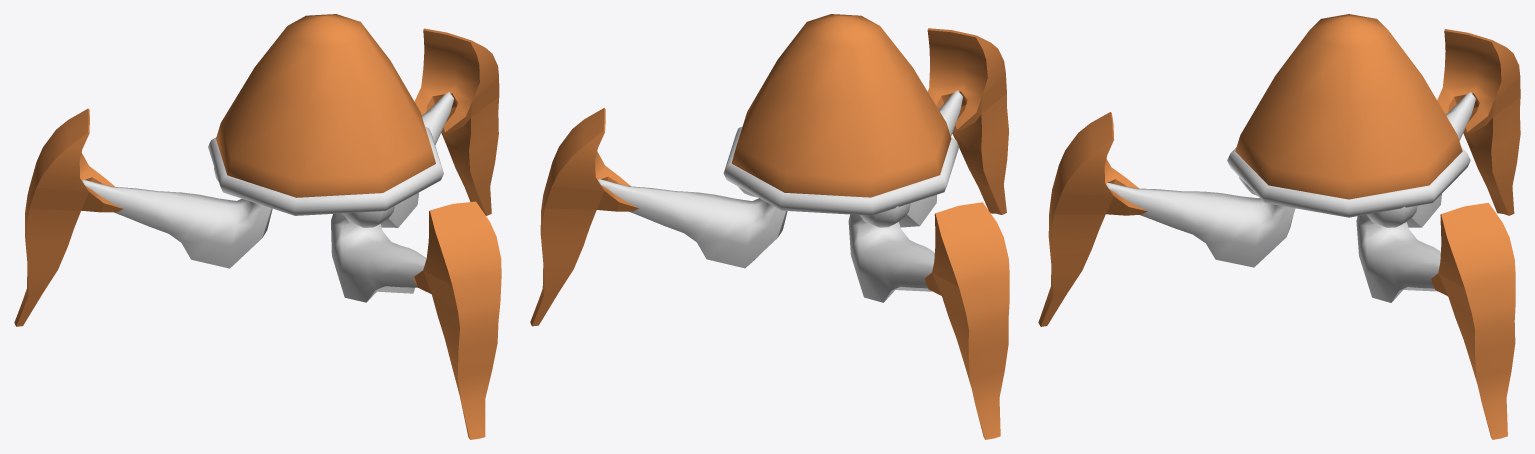
The model's file is pylonBot_destructableModel.fbx.
The picture shows the model from 3 angles, left to right: view 1: azimuth 30°, elevation 25°; view 2: azimuth 150°, elevation 25°; view 3: azimuth 270°, elevation 25°; orthographic projection.
Parts seen in each view (by area): view 1: body_base, foot3, foot1, foot2, leg2, leg3, leg1; view 2: body_base, foot2, foot3, foot1, leg1, leg2, leg3; view 3: body_base, foot1, foot2, foot3, leg3, leg1, leg2.
Part boxes in pixels (x1=…): body_base: x1=208, y1=14, x2=443, y2=215; foot3: x1=413, y1=201, x2=501, y2=439; foot1: x1=414, y1=28, x2=499, y2=215; foot2: x1=14, y1=108, x2=123, y2=326; leg2: x1=82, y1=167, x2=272, y2=268; leg3: x1=331, y1=206, x2=426, y2=302; leg1: x1=381, y1=92, x2=453, y2=227; body_base: x1=723, y1=14, x2=959, y2=215; foot2: x1=924, y1=202, x2=1009, y2=439; foot3: x1=927, y1=28, x2=1008, y2=214; foot1: x1=530, y1=108, x2=638, y2=326; leg1: x1=598, y1=179, x2=787, y2=268; leg2: x1=848, y1=203, x2=934, y2=302; leg3: x1=899, y1=90, x2=962, y2=227; body_base: x1=1227, y1=14, x2=1470, y2=217; foot1: x1=1431, y1=202, x2=1515, y2=439; foot2: x1=1437, y1=29, x2=1520, y2=215; foot3: x1=1038, y1=112, x2=1147, y2=326; leg3: x1=1106, y1=177, x2=1295, y2=267; leg1: x1=1356, y1=205, x2=1440, y2=302; leg2: x1=1407, y1=92, x2=1475, y2=227.
Size of the model in its own units: 4.91 by 3.06 by 4.35.
